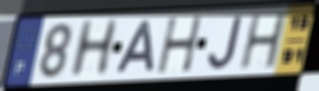8: (37, 21, 73, 80)
A: (113, 19, 156, 76)
H: (66, 17, 122, 81), (237, 11, 289, 72), (155, 14, 205, 76)
J: (207, 14, 245, 71)
